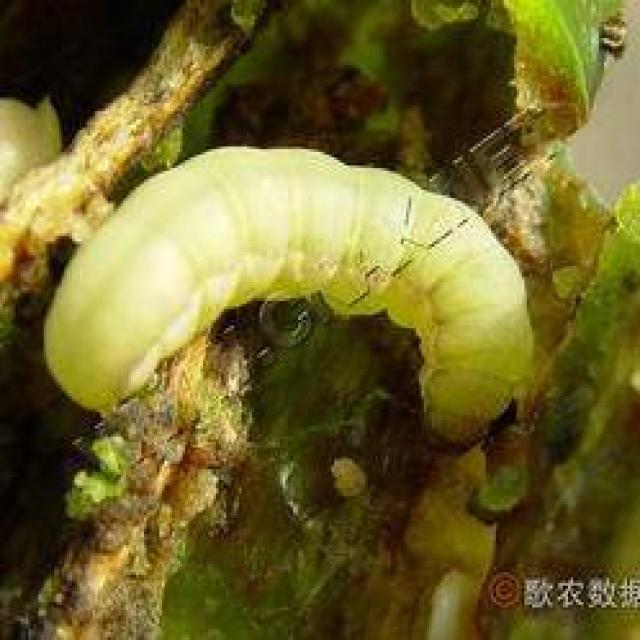BeetArmyWorm-Larva-: (27, 138, 550, 445)
